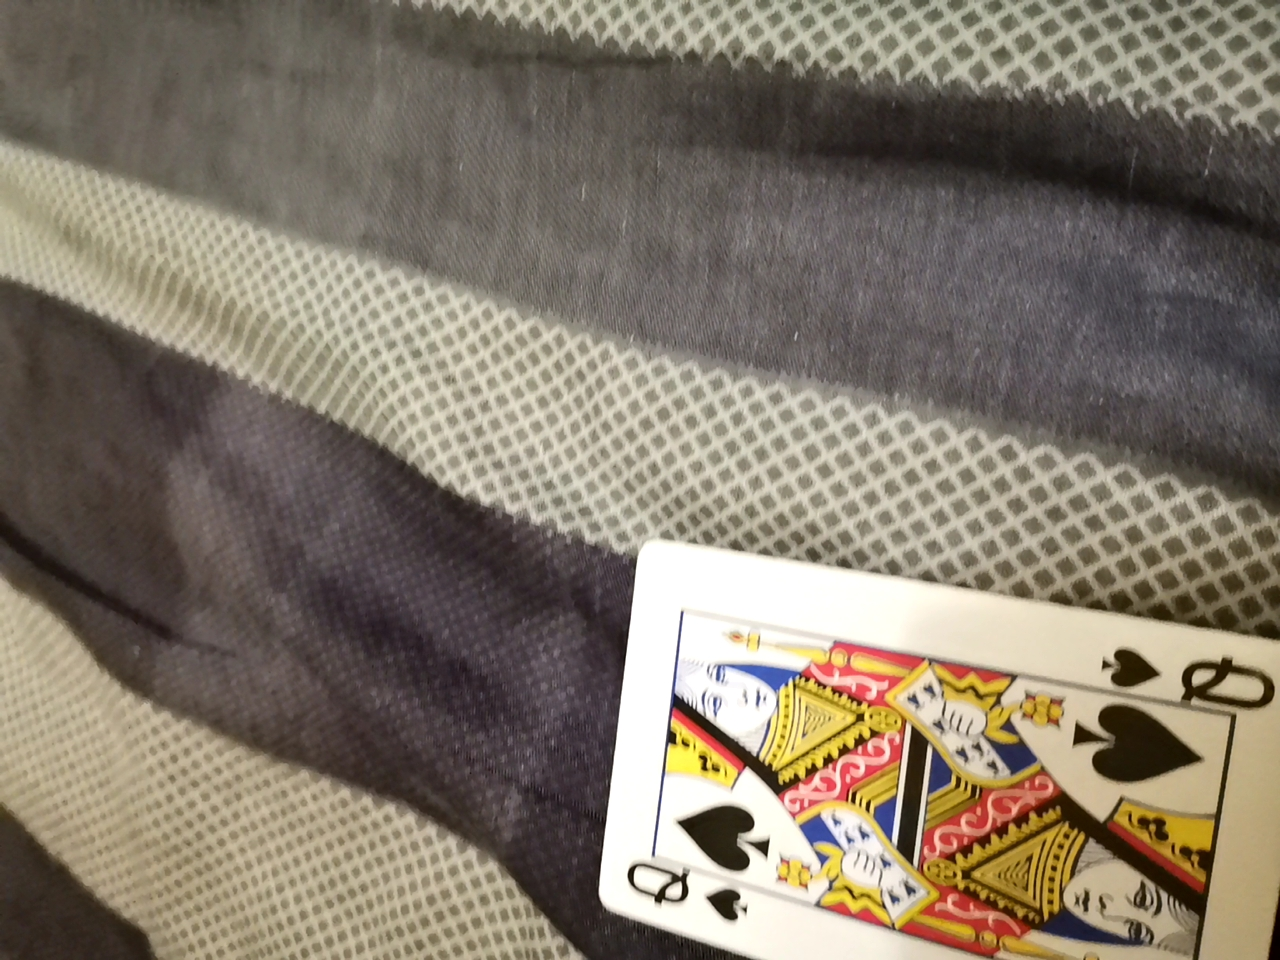ht q: (601, 548, 1267, 959)
